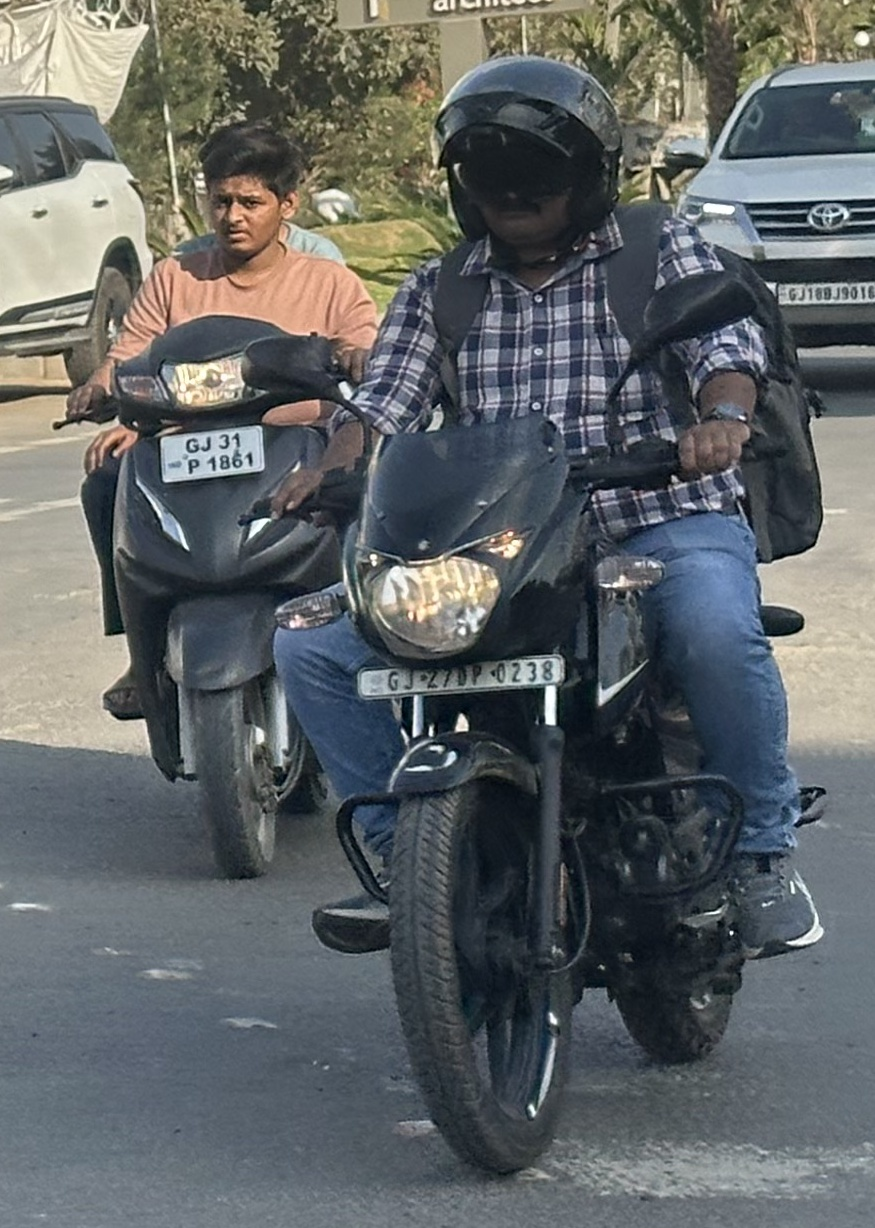BikeWithRider: (235, 51, 838, 1184), (50, 110, 395, 884)
Helmet: (421, 57, 621, 254)
NoHelmet: (193, 125, 309, 252)
